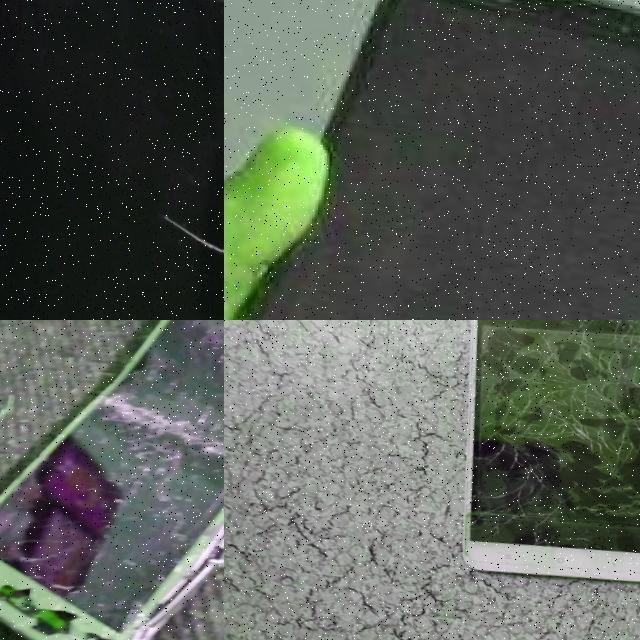scratch: (147, 167, 224, 289)
screen crack: (0, 320, 224, 640), (460, 320, 640, 543)
